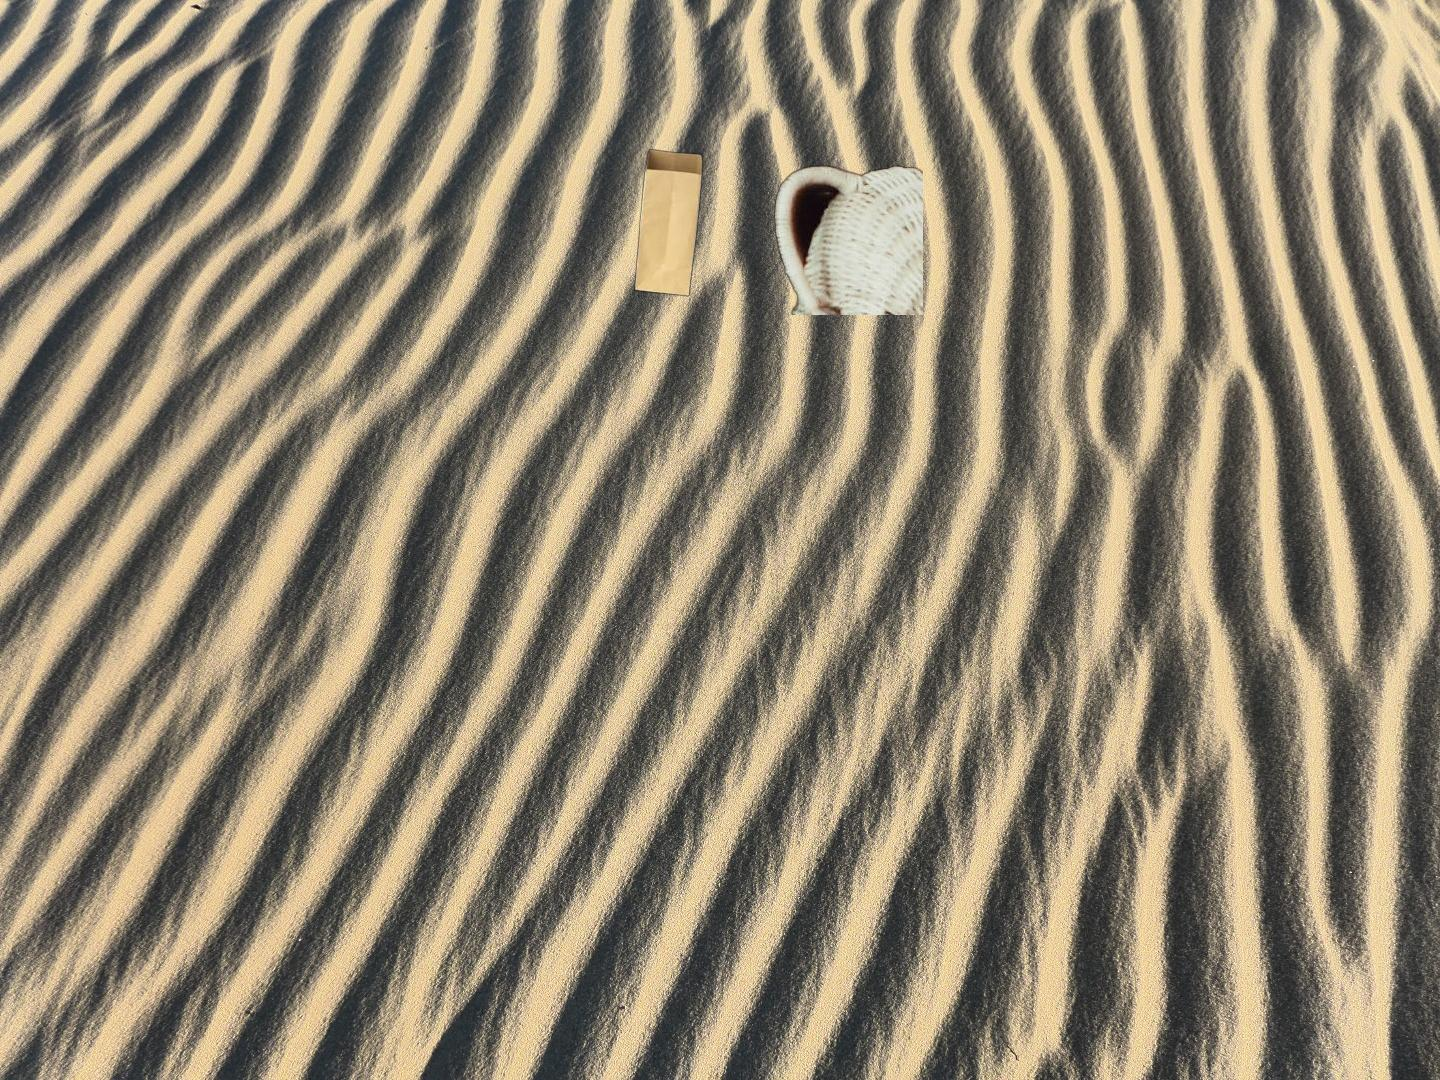paper-bag: (632, 147, 923, 315)
